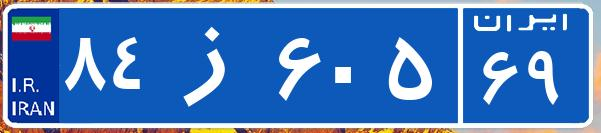0: (330, 28, 385, 110)
4: (110, 28, 158, 105)
5: (385, 28, 445, 110)
6: (273, 28, 330, 110), (475, 38, 525, 113)
8: (57, 26, 110, 107)
9: (525, 38, 570, 115)
ز: (158, 15, 273, 115)
